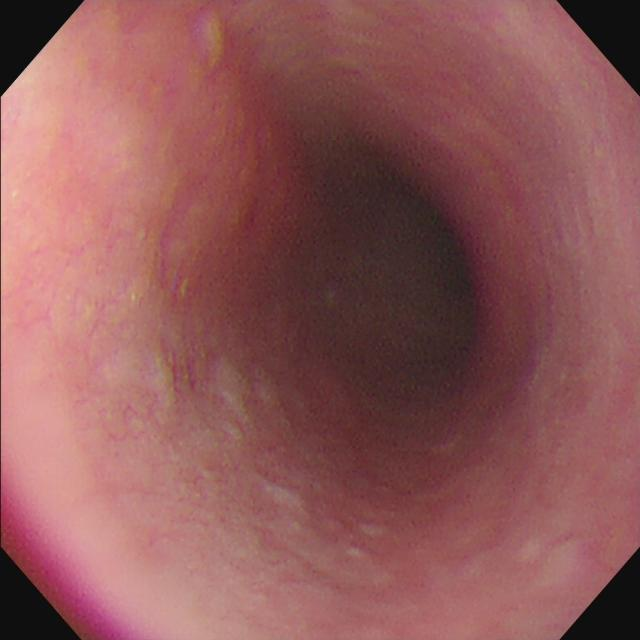E: (384, 194, 481, 379)
